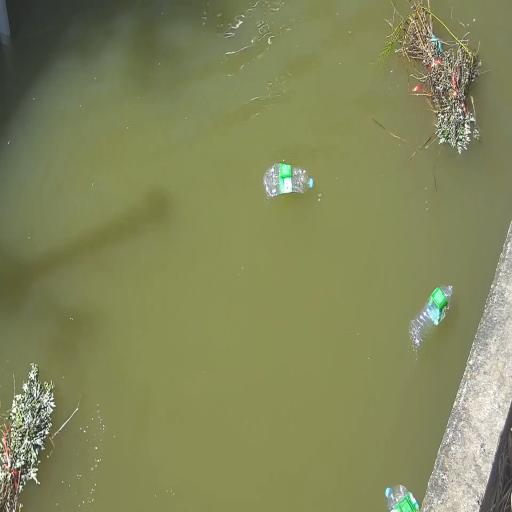plastic: (410, 286, 452, 348), (264, 163, 313, 198), (386, 485, 419, 511), (309, 178, 313, 188)
twig: (379, 0, 481, 155), (0, 363, 55, 512)
